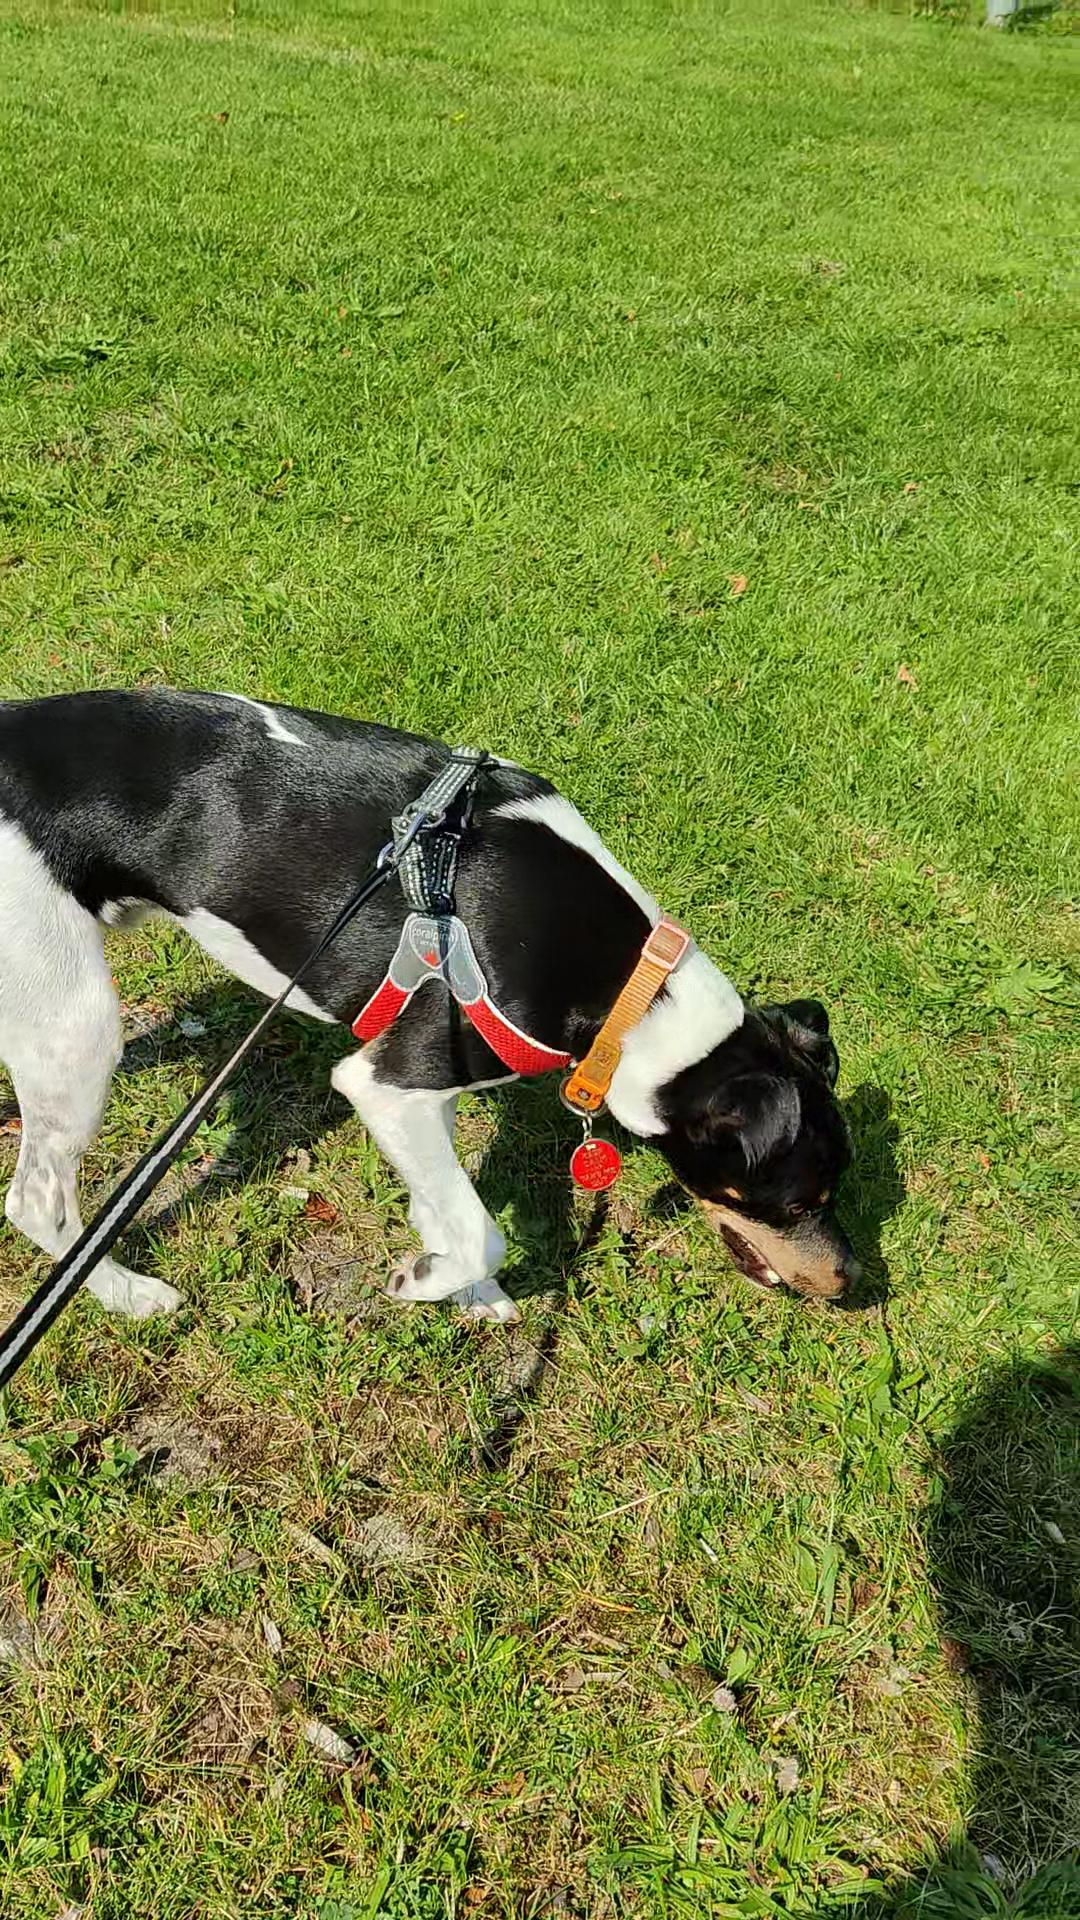Dog: (0, 678, 886, 1333)
